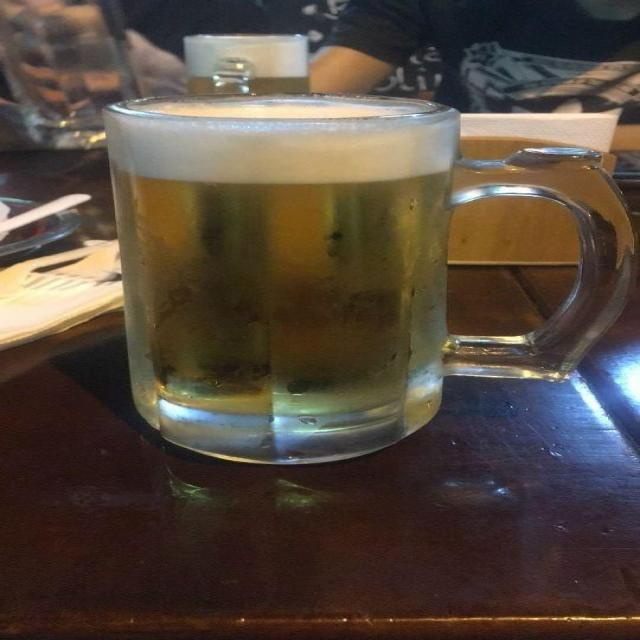glass-mug: (93, 90, 636, 467)
